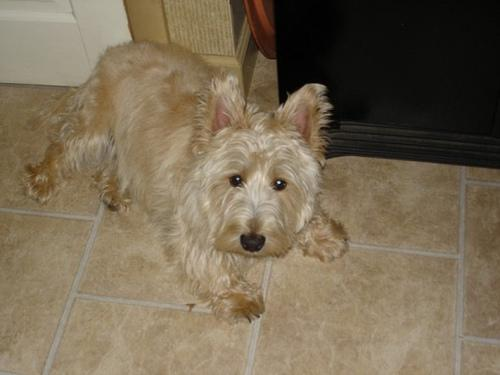dog-scottish_terrier: (199, 78, 323, 255)
